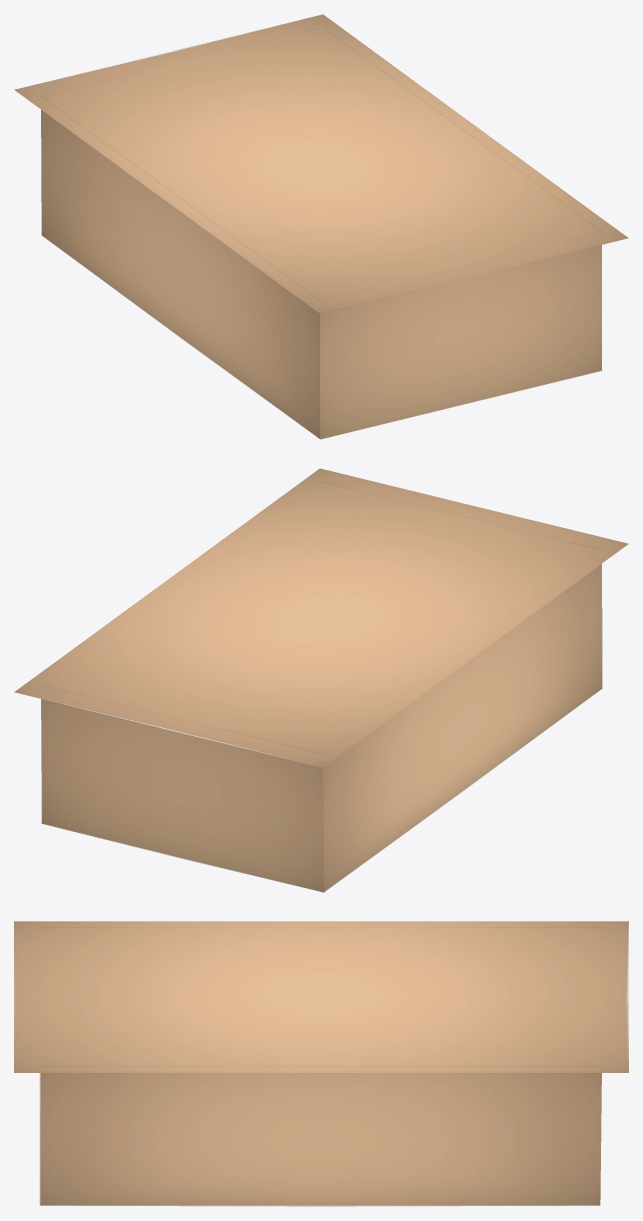
File: SingleRoom.glb
3 renders of one model, top to bottom at view 1: azimuth 30°, elevation 25°; view 2: azimuth 150°, elevation 25°; view 3: azimuth 270°, elevation 25°, orthographic.
Parts seen in each view (by area): view 1: polySurface104.004; view 2: polySurface104.004; view 3: polySurface104.004.
Boxes of the visible parts, x1,y1,x2,y2 form: polySurface104.004: [14, 14, 628, 439]; polySurface104.004: [14, 468, 628, 892]; polySurface104.004: [14, 921, 628, 1206].
Bounding box in the file's own units: 5.66 × 2.45 × 9.7.
2 materials, 2 textured.
